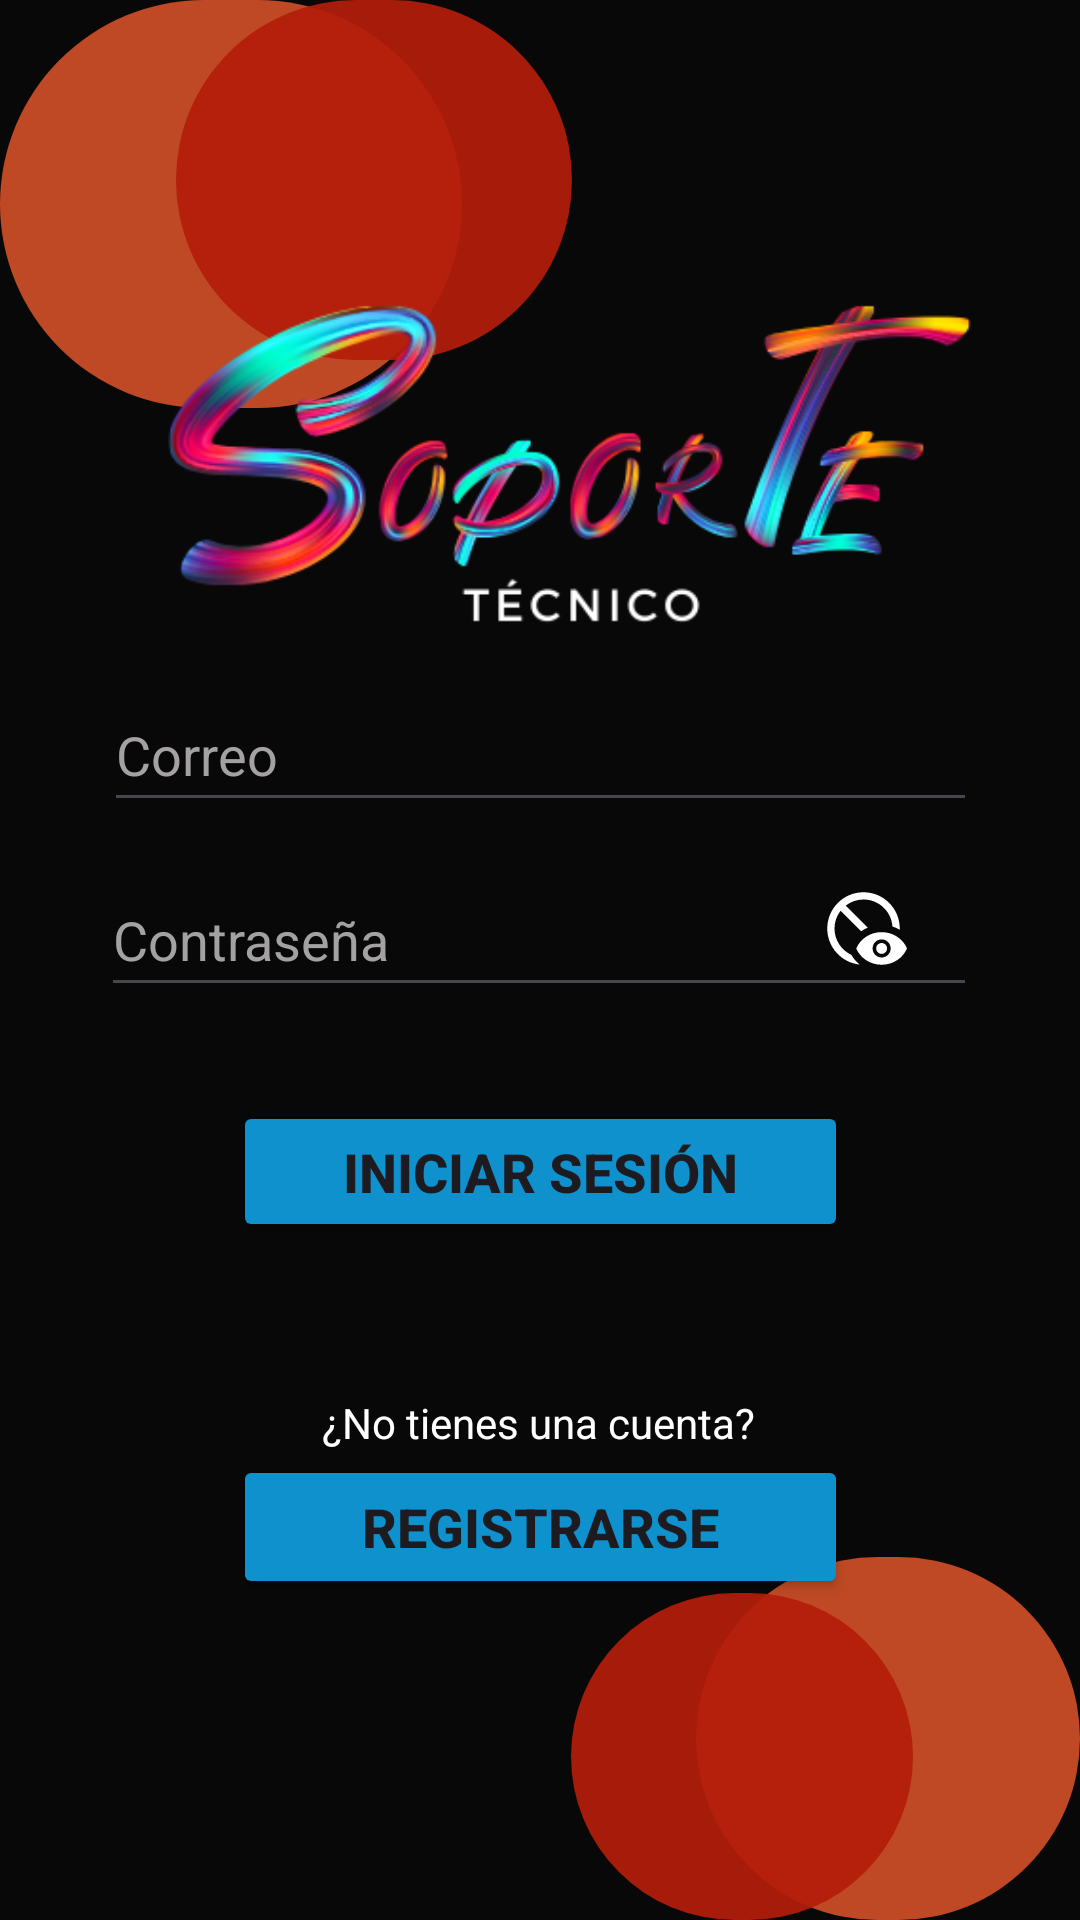

Where icons sit on this 1080 × 1920 app screen, as [x1,y1,x2,y2]:
ojo: [827,892,907,965]
